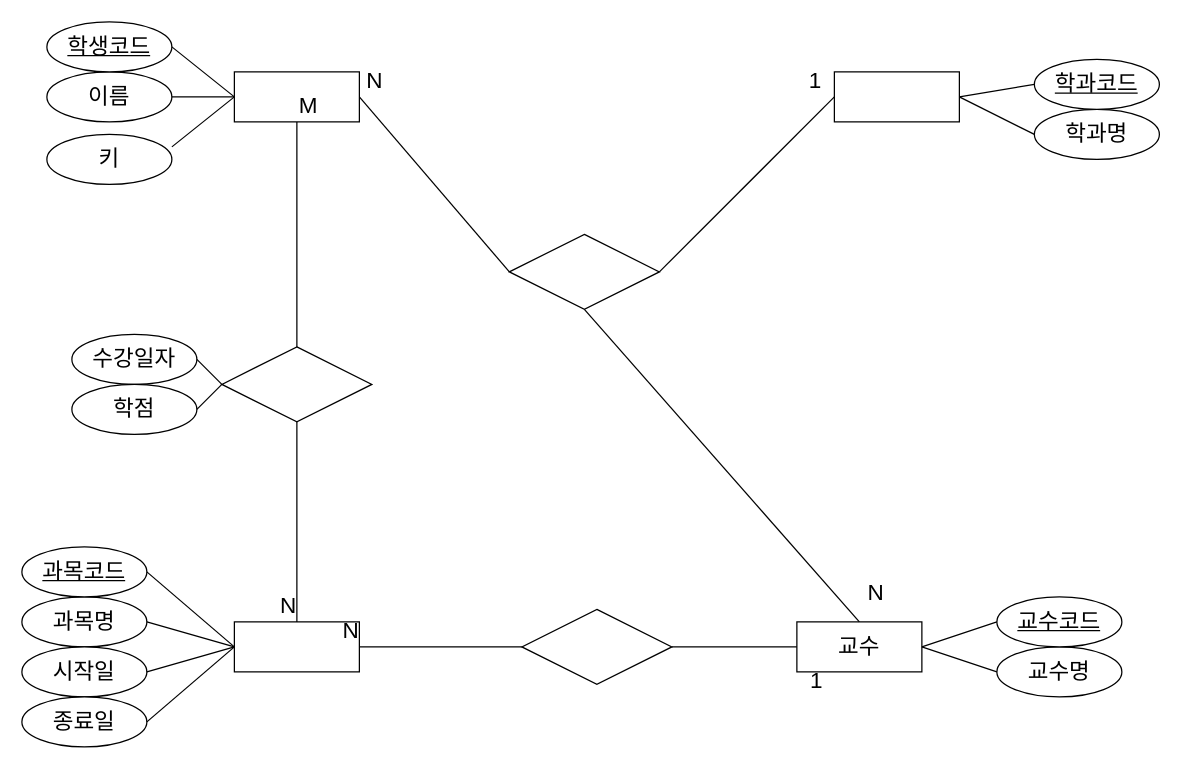
Image size: 1181x769. Some labels were removed from this diagram. Each missing label, with the centre of its shape:
"강의" belongs at (596,646).
"과목" belongs at (296,646).
"소속" belongs at (583,271).
"수강" belongs at (296,384).
"학과" belongs at (896,96).
"학생" belongs at (296,96).
